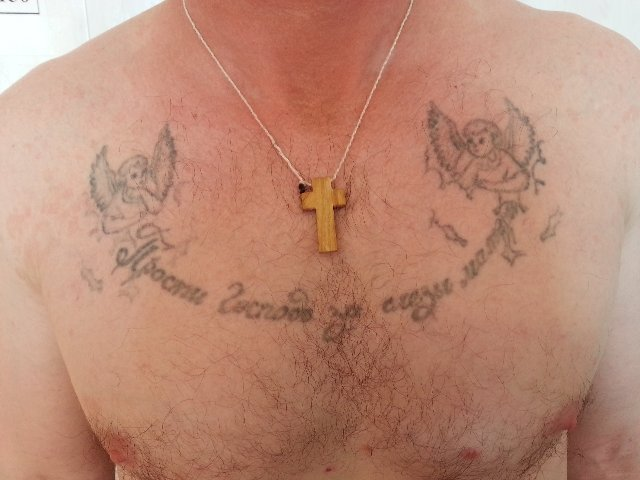tatu1_angel: (68, 119, 214, 247), (412, 83, 551, 206)
tatu3_bukva: (104, 227, 554, 333)
